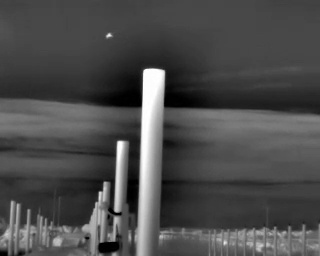BIRD: (104, 30, 115, 42)
